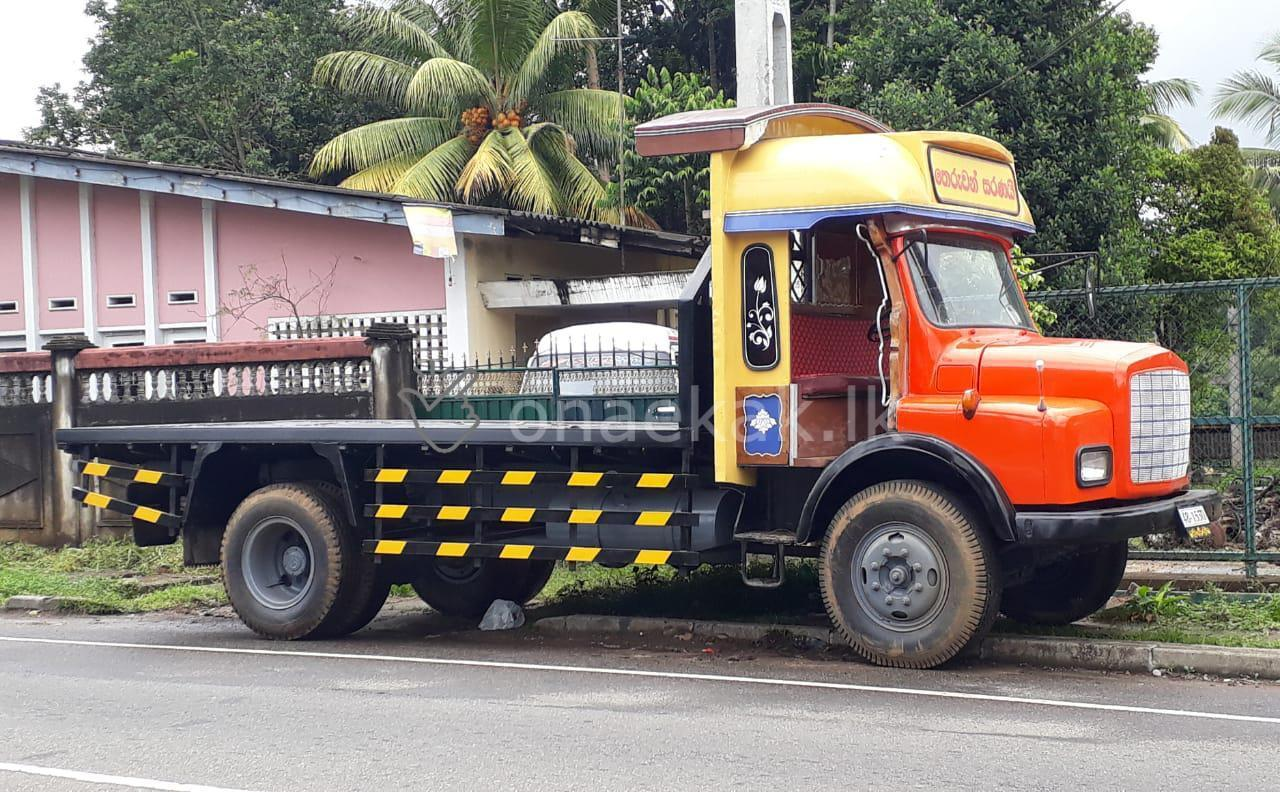truck: (54, 101, 1219, 669)
